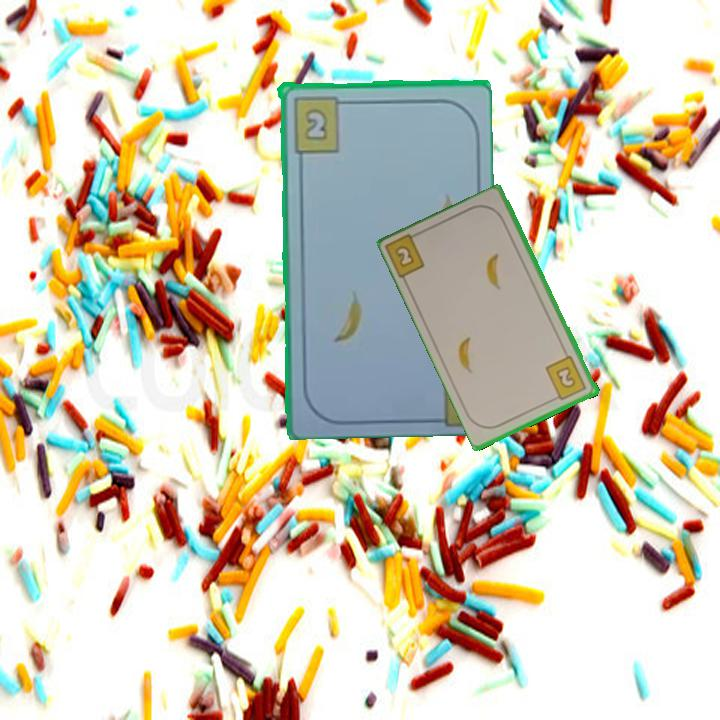2b: (289, 93, 351, 155), (542, 353, 589, 404), (384, 228, 428, 282)
